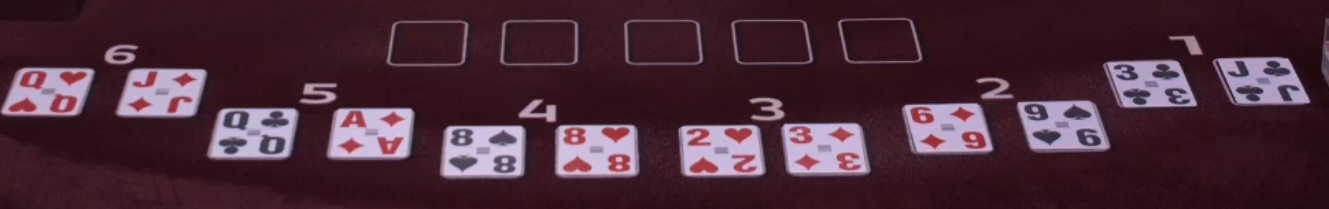2h: (678, 118, 767, 184)
3c: (1103, 56, 1201, 113)
3d: (778, 118, 876, 181)
6d: (897, 100, 996, 158)
8h: (550, 118, 640, 181)
8s: (435, 119, 528, 180)
9s: (1014, 98, 1110, 157)
asd: (328, 102, 418, 162)
jc: (1210, 52, 1313, 112)
jd: (115, 59, 209, 121)
qc: (206, 105, 301, 158)
qh: (2, 62, 97, 118)
